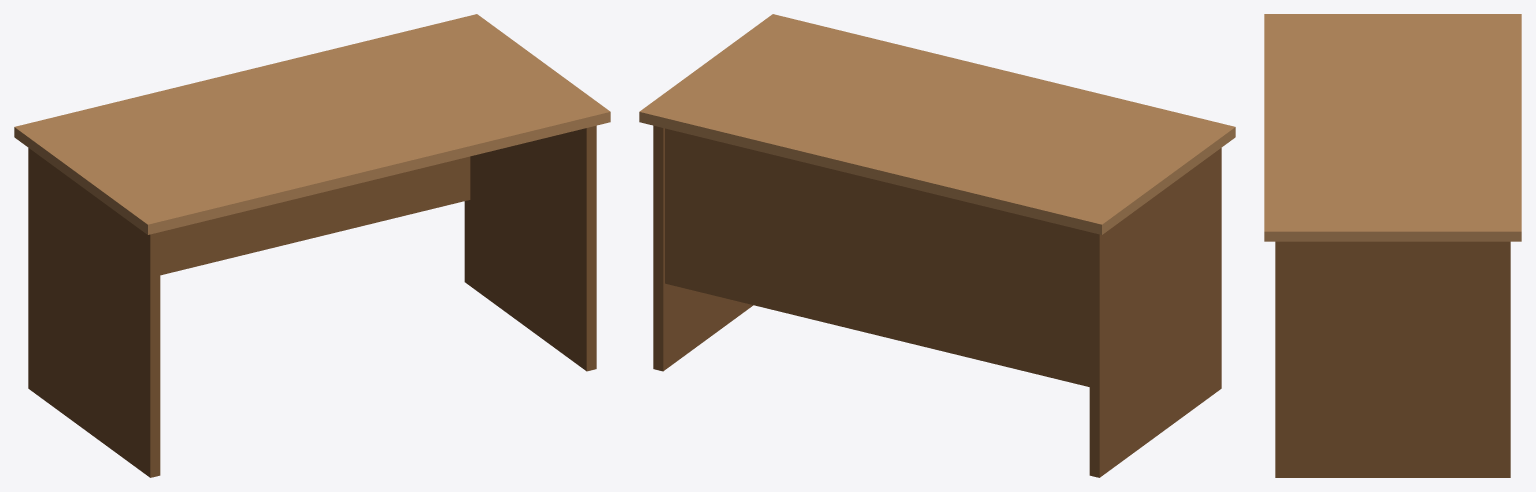
File: mesa_escritorio_140.obj
3 views of the same model, side by side, from view 1: azimuth 30°, elevation 25°; view 2: azimuth 150°, elevation 25°; view 3: azimuth 270°, elevation 25° (orthographic). The views are drawn at different scales.
Parts seen in each view (by area): view 1: mesa_escritorio_140; view 2: mesa_escritorio_140; view 3: mesa_escritorio_140.
Boxes of the visible parts, x1,y1,x2,y2 form: mesa_escritorio_140: (14,14,610,477); mesa_escritorio_140: (639,14,1235,477); mesa_escritorio_140: (1264,14,1521,477).
Size of the model in its own units: 1.4 by 0.75 by 0.7.
